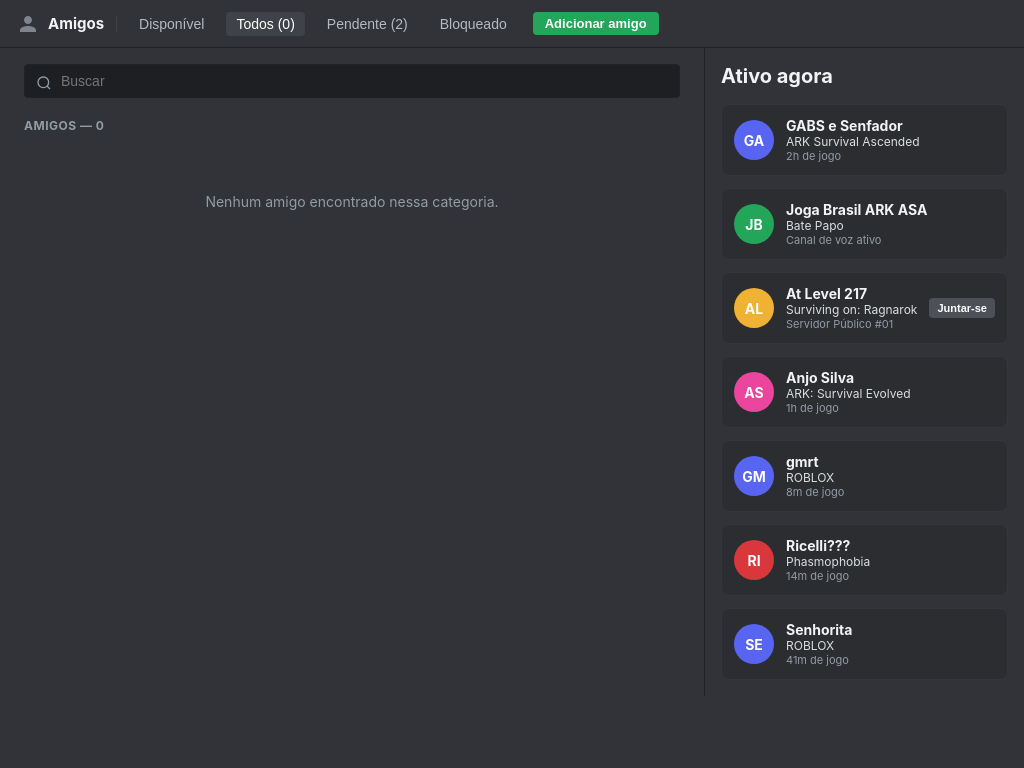
Test: amizades e navegação por teclado › mostra pedidos enviados sem botão de aceitar e recebe erros do aceite
Click the button with test id "tab-friends-pending": (367, 24) 317,12 -> 418,36
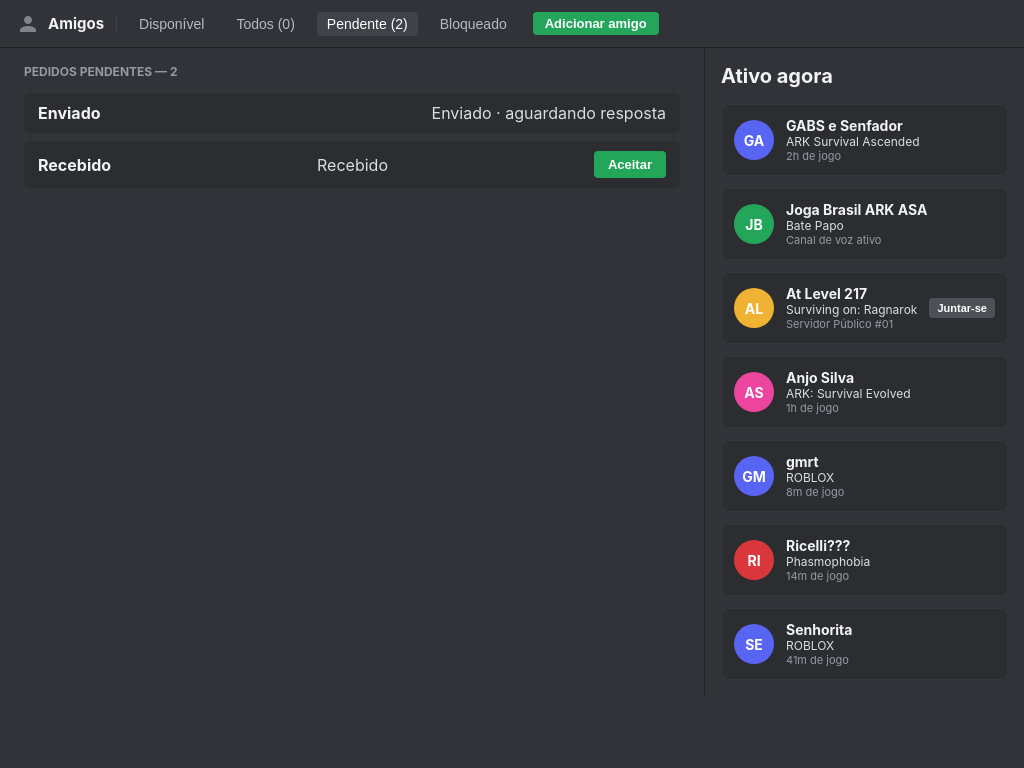
Expected: the text "Enviado · aguardando resposta" is shown, 432,103 -> 666,123
Click the button with test id "btn-accept-in": (630, 164) 594,151 -> 666,178
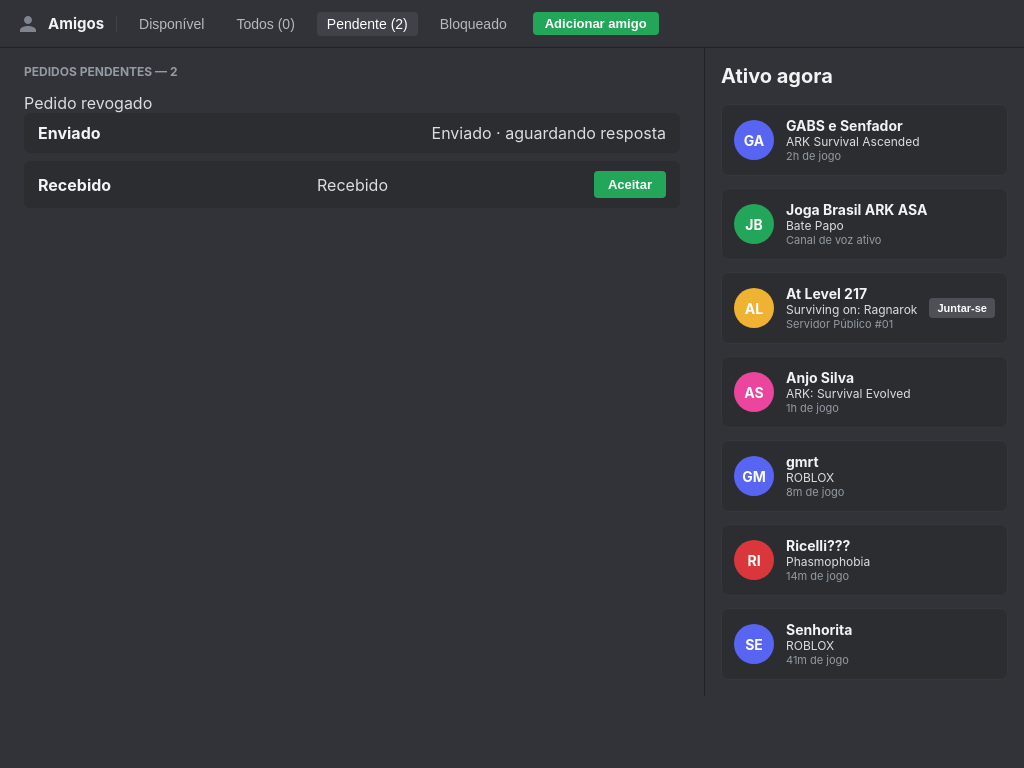
Expected: the message "Pedido revogado" is shown, 24,93 -> 152,113
